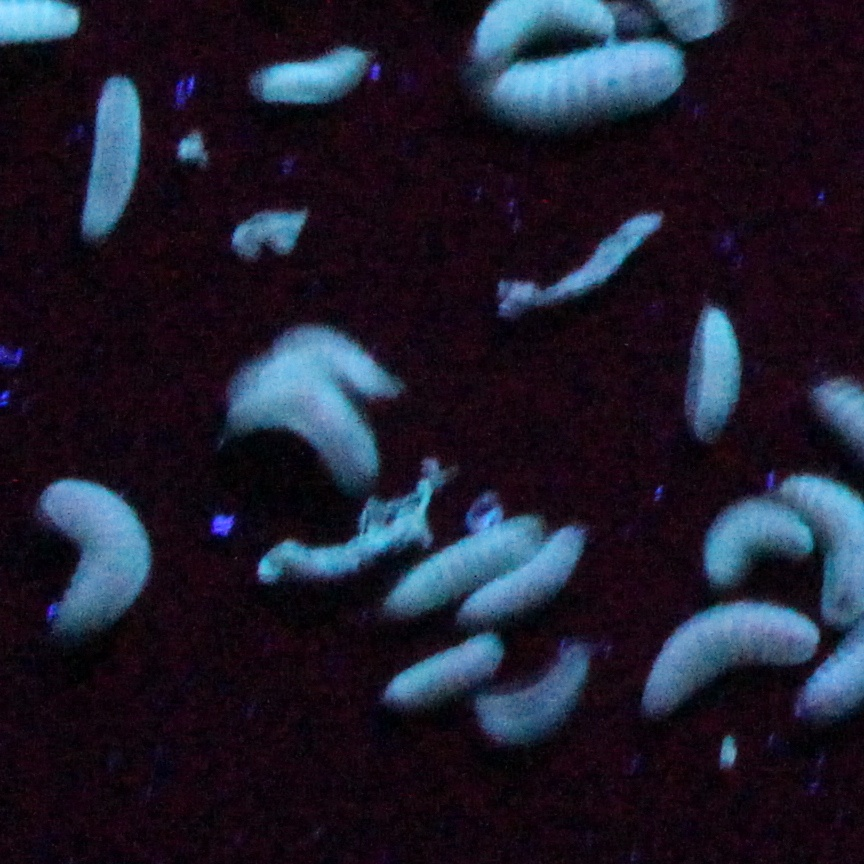larve: (36, 481, 157, 633), (645, 606, 818, 708), (226, 373, 378, 485), (488, 39, 688, 121), (384, 516, 545, 606), (461, 523, 588, 619), (478, 646, 593, 741), (82, 75, 138, 233), (709, 502, 811, 583), (386, 635, 503, 700), (251, 46, 368, 100), (688, 306, 734, 435)
